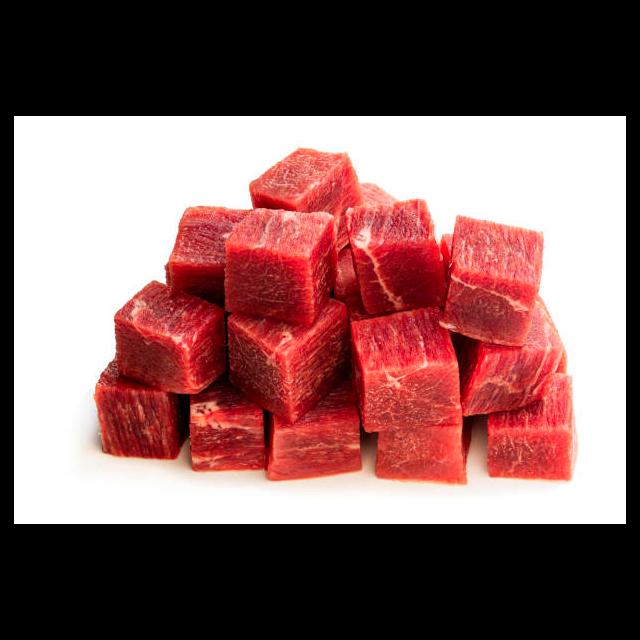beef: (94, 147, 575, 489)
